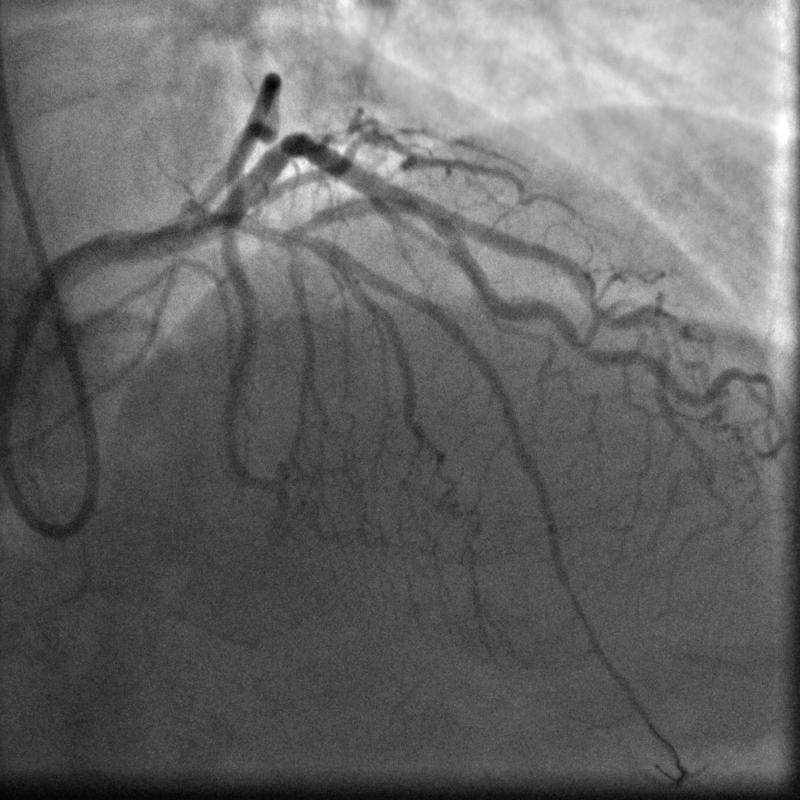Stenosis: (411, 194, 442, 232)
